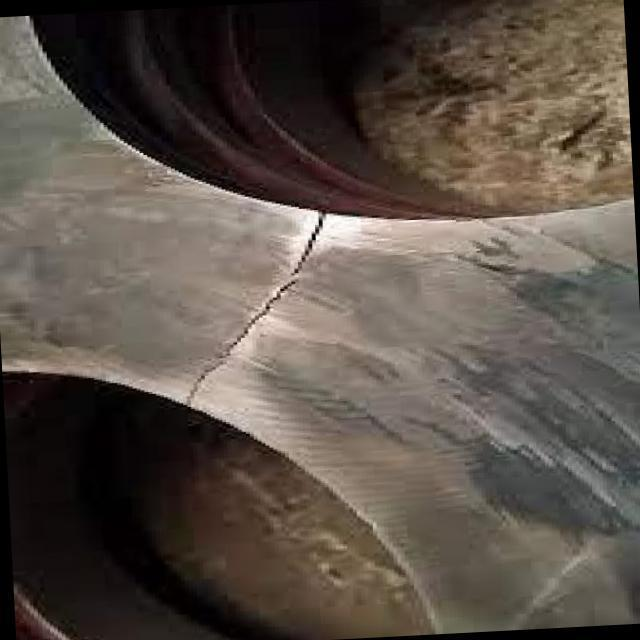defect: (184, 206, 333, 411)
